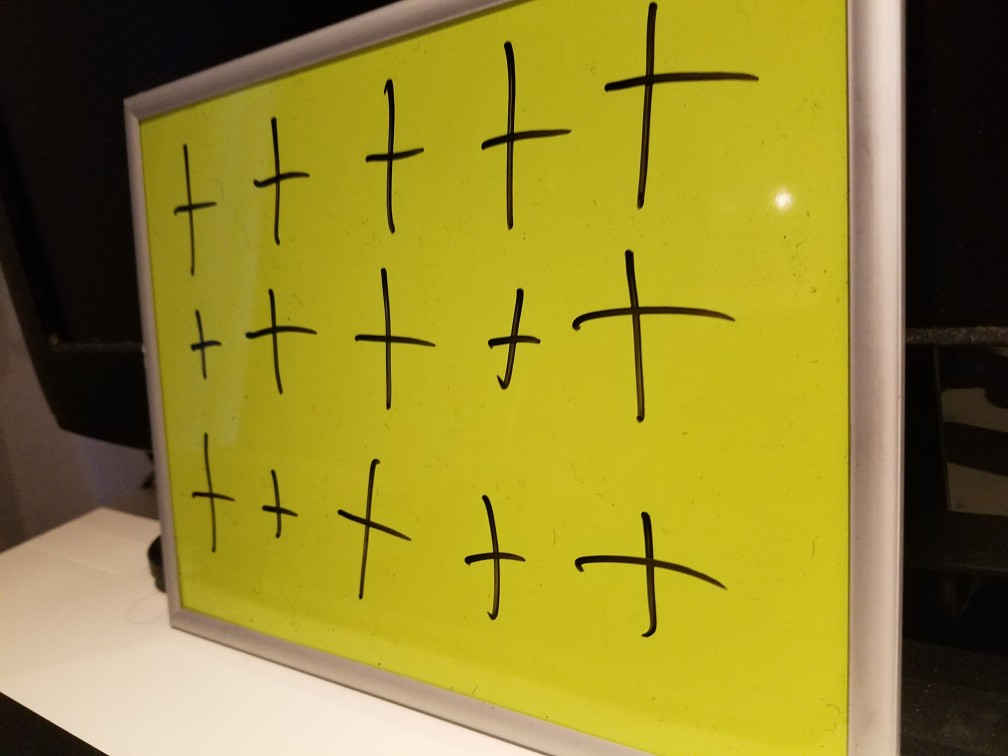+: (592, 1, 769, 224), (562, 246, 753, 448), (556, 471, 734, 675), (469, 24, 577, 236), (450, 470, 547, 663), (345, 259, 454, 428), (326, 442, 427, 620), (342, 77, 433, 241), (236, 109, 326, 252), (241, 276, 318, 405), (157, 138, 223, 285), (470, 276, 542, 399), (182, 415, 236, 574), (170, 297, 228, 383), (259, 463, 310, 558)
